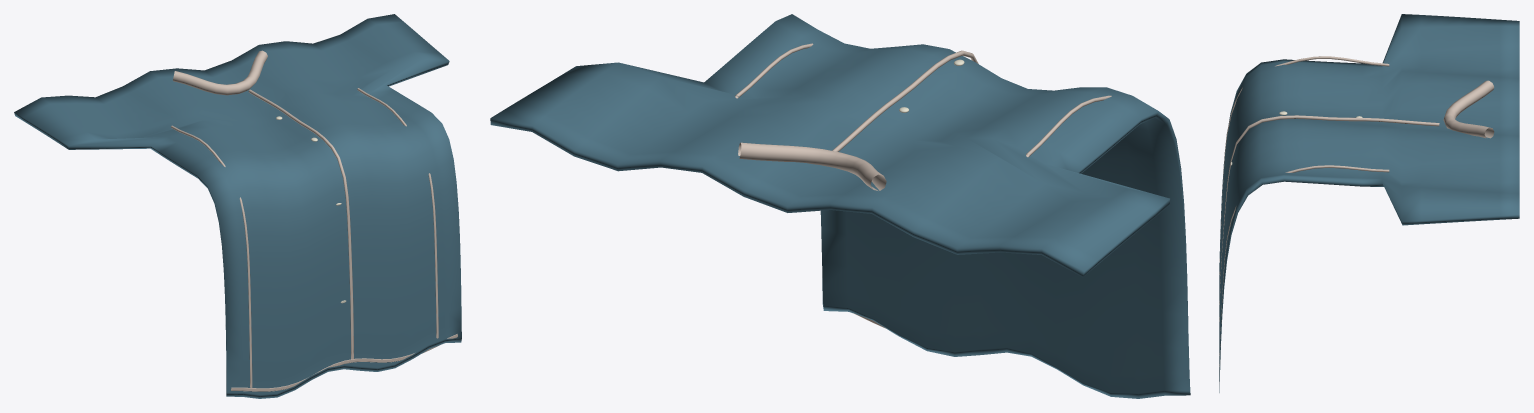
Rendered from shirt_draped.glb.
3 renders of one model, left to right at view 1: azimuth 30°, elevation 25°; view 2: azimuth 150°, elevation 25°; view 3: azimuth 270°, elevation 25°, orthographic. The views are drawn at different scales.
Visible parts, largest first — view 1: shirt_draped; view 2: shirt_draped; view 3: shirt_draped.
Part boxes in pixels (box(x1,y1,x2,y2)): shirt_draped: box(14, 14, 461, 398); shirt_draped: box(490, 14, 1190, 398); shirt_draped: box(1219, 14, 1519, 392).
Size of the model in its own units: 0.47 by 0.27 by 0.2998.
